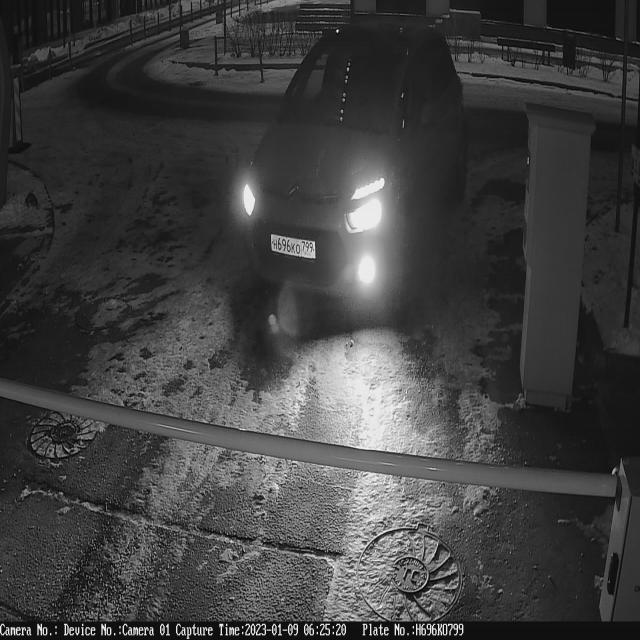car-plate-numbers: (267, 225, 322, 263)
